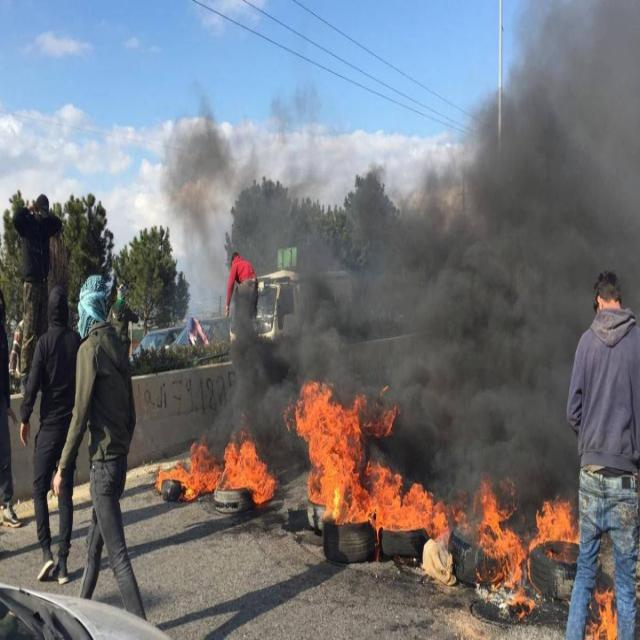Fire: (299, 383, 389, 531), (480, 481, 578, 614), (154, 438, 276, 506), (392, 470, 451, 542), (589, 586, 614, 640)
Smoke: (179, 126, 385, 368), (404, 229, 568, 447), (467, 21, 638, 220)
